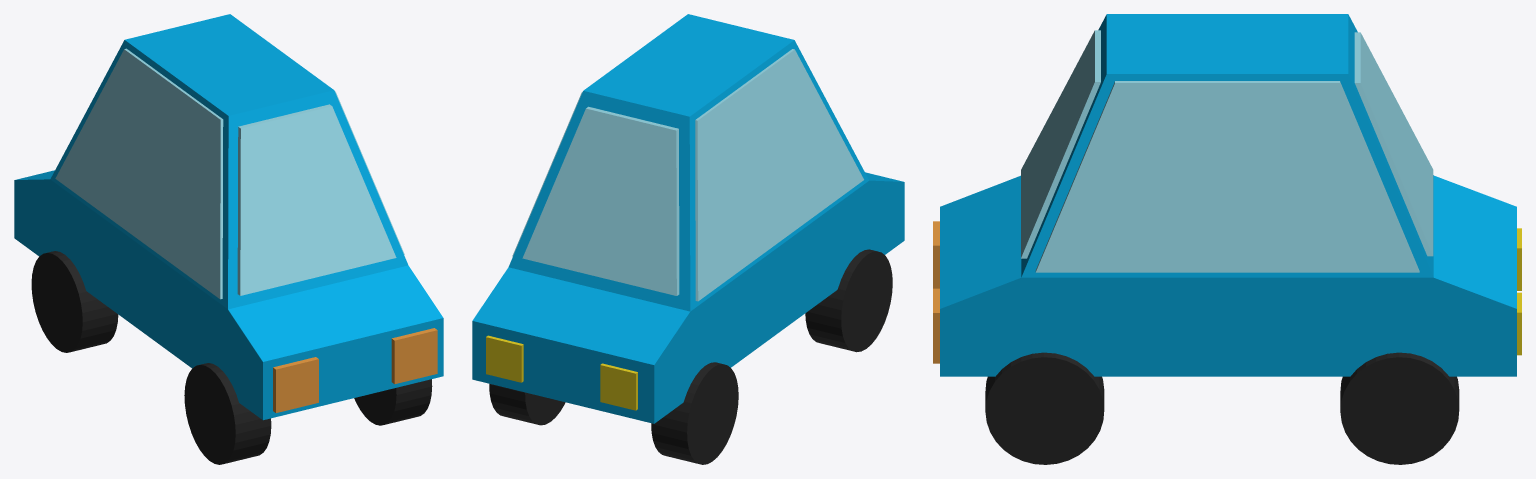
The model's file is car.fbx.
The picture shows the model from 3 angles, left to right: view 1: azimuth 30°, elevation 25°; view 2: azimuth 150°, elevation 25°; view 3: azimuth 270°, elevation 25°; orthographic projection. The views are drawn at different scales.
Visible parts, largest first — view 1: Cube, Cube.003, Cylinder.002, Cylinder.003, Cube.002, Cylinder; view 2: Cube, Cube.003, Cylinder.003, Cylinder.002, Cube.001, Cylinder.001; view 3: Cube, Cube.003, Cylinder.001, Cylinder, Cube.002, Cube.001.
Boxes of the visible parts, x1,y1,x2,y2 form: Cube: [14, 14, 443, 420]; Cube.003: [55, 48, 404, 299]; Cylinder.002: [184, 363, 271, 464]; Cylinder.003: [31, 251, 118, 352]; Cube.002: [273, 328, 437, 412]; Cylinder: [354, 379, 432, 425]; Cube: [472, 14, 904, 423]; Cube.003: [512, 49, 863, 301]; Cylinder.003: [651, 362, 738, 464]; Cylinder.002: [805, 249, 892, 352]; Cube.001: [486, 335, 637, 410]; Cylinder.001: [489, 384, 565, 425]; Cube: [940, 14, 1516, 376]; Cube.003: [1021, 30, 1433, 272]; Cylinder.001: [1340, 352, 1459, 464]; Cylinder: [985, 352, 1104, 464]; Cube.002: [933, 221, 939, 363]; Cube.001: [1517, 228, 1521, 355].
Bounding box in the file's own units: 410 × 627 × 916.
